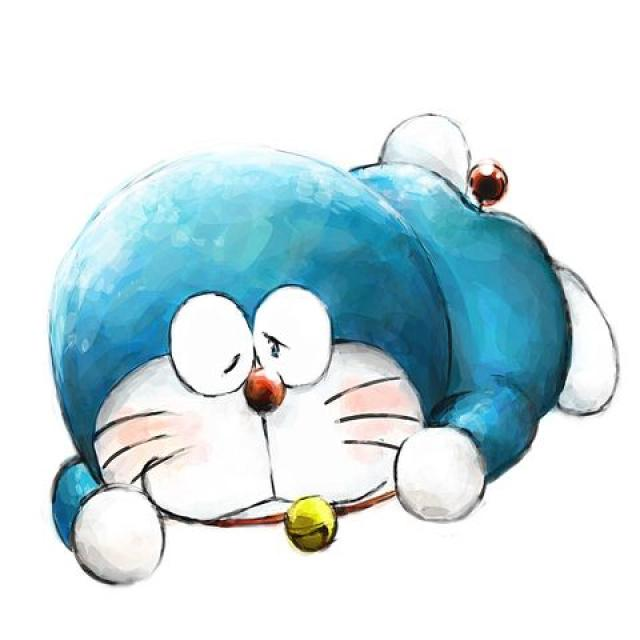doraemon: (12, 141, 511, 576)
